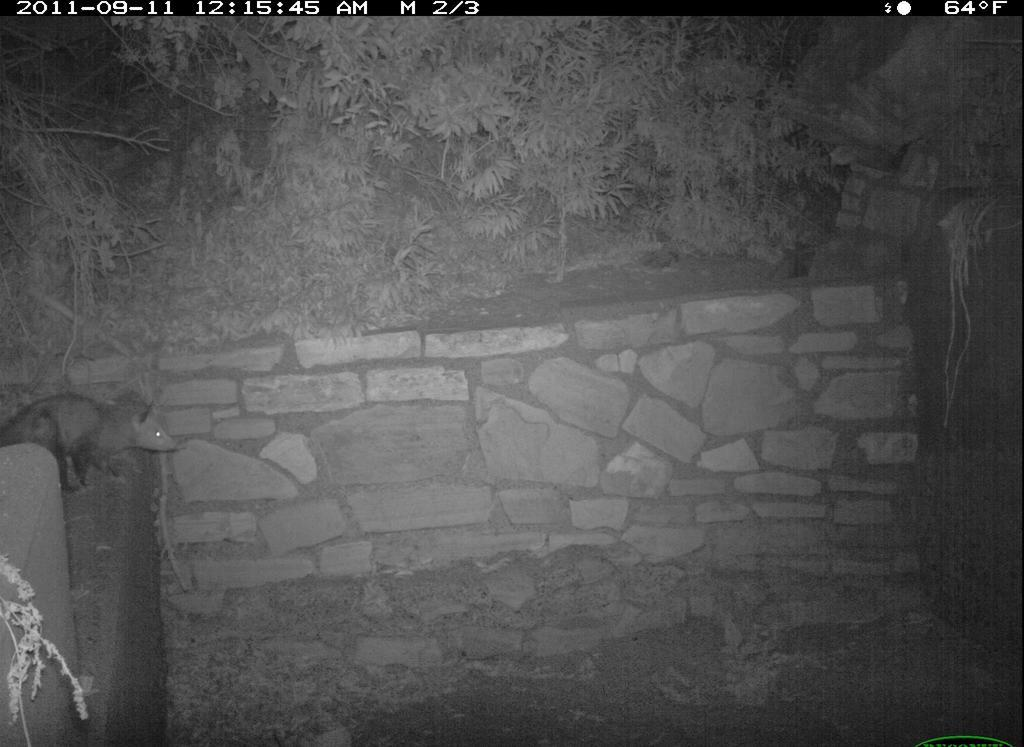opossum: (3, 385, 187, 489)
